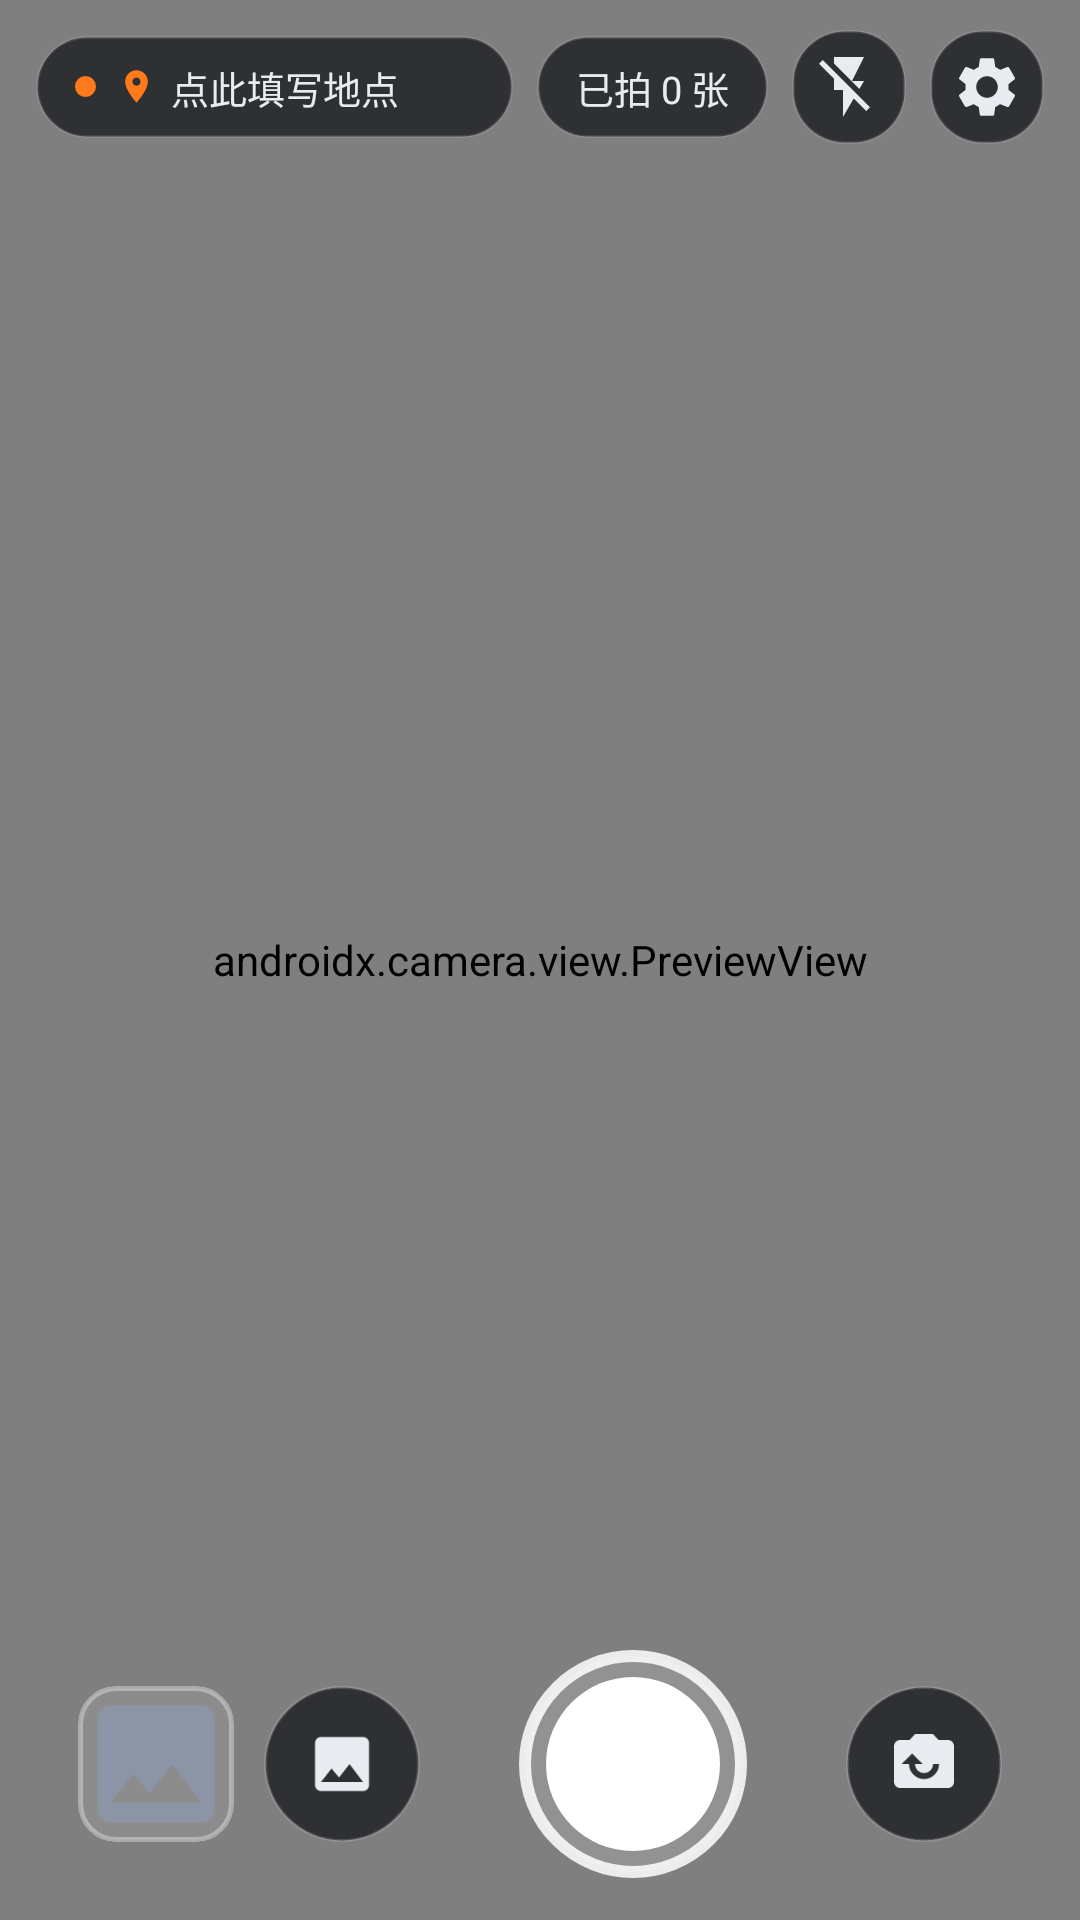

Where to tap for icons on this 1080x1920 app screen, as [x,y]:
location: [136,86]
切换摄像头: [924,1764]
水印设置: [987,87]
相册选图加水印: [342,1764]
闪光灯: [849,87]
